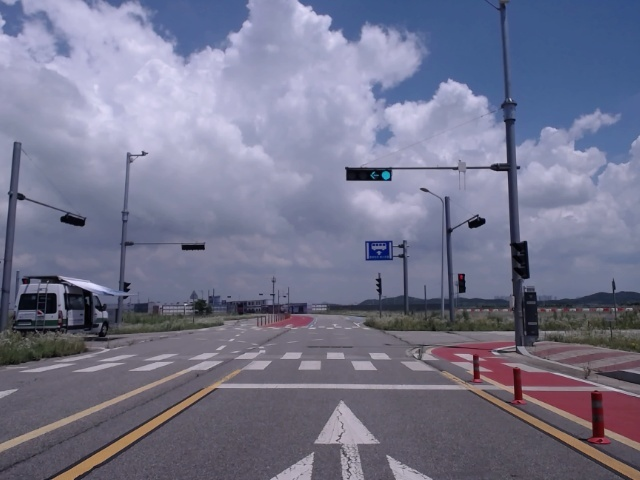all_green_4: (347, 168, 393, 181)
